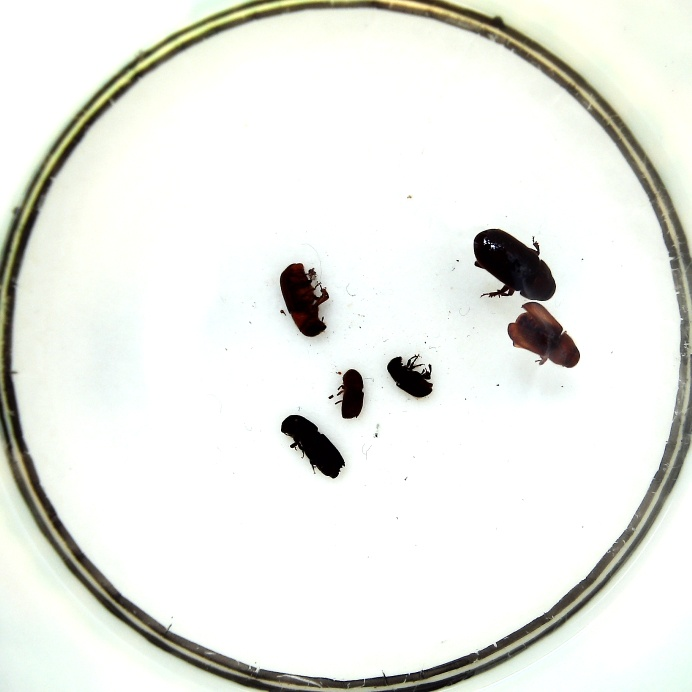armandi: (387, 356, 433, 397)
leconte: (474, 228, 556, 301), (507, 302, 580, 368), (280, 263, 326, 336)
linnaeus: (281, 415, 345, 479), (341, 369, 364, 419)
